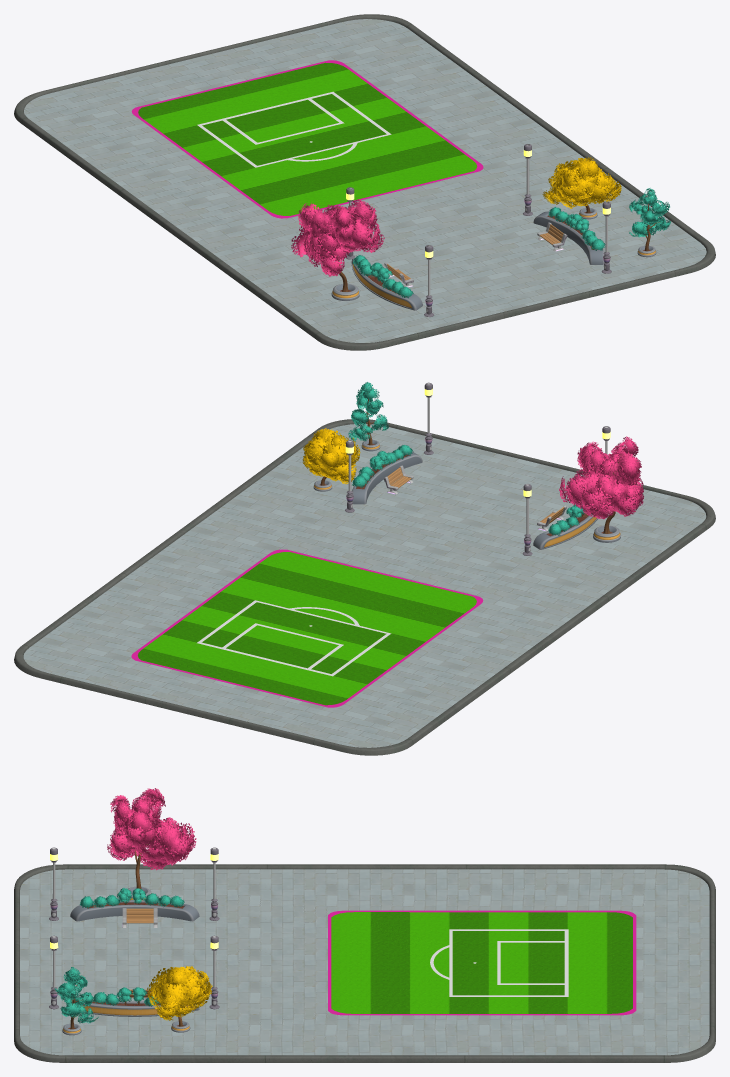
Rendered from plaza.glb.
The picture shows the model from 3 angles, top to bottom: view 1: azimuth 30°, elevation 25°; view 2: azimuth 150°, elevation 25°; view 3: azimuth 270°, elevation 25°; orthographic projection.
Visible parts, largest first — view 1: suelo, Tree.001, TreeYellow.001, PotMiddleLargeCurved.001, BushSmall.006, TreeGreen.001, Lamp_LOD0.002, BenchStreet.001; view 2: suelo, Tree.001, TreeYellow.001, PotMiddleLargeCurved.001, TreeGreen.001, BushSmall.006, Lamp_LOD0.002, BenchStreet.001; view 3: suelo, Tree.001, TreeYellow.001, PotMiddleLargeCurved.001, BushSmall.006, Lamp_LOD0.002, TreeGreen.001, BenchStreet.001.
Part boxes in pixels (left/top/right/bottom): suelo: left=14, top=14, right=715, bottom=350; Tree.001: left=291, top=199, right=384, bottom=291; TreeYellow.001: left=542, top=157, right=621, bottom=213; PotMiddleLargeCurved.001: left=351, top=211, right=604, bottom=310; BushSmall.006: left=352, top=207, right=605, bottom=298; TreeGreen.001: left=629, top=188, right=670, bottom=251; Lamp_LOD0.002: left=345, top=144, right=611, bottom=316; BenchStreet.001: left=384, top=222, right=567, bottom=287; suelo: left=14, top=419, right=715, bottom=755; Tree.001: left=559, top=436, right=643, bottom=533; TreeYellow.001: left=302, top=428, right=360, bottom=485; PotMiddleLargeCurved.001: left=352, top=451, right=598, bottom=549; TreeGreen.001: left=348, top=382, right=388, bottom=445; BushSmall.006: left=352, top=445, right=585, bottom=535; Lamp_LOD0.002: left=345, top=382, right=610, bottom=555; BenchStreet.001: left=384, top=465, right=566, bottom=531; suelo: left=14, top=864, right=715, bottom=1062; Tree.001: left=107, top=788, right=196, bottom=889; TreeYellow.001: left=147, top=966, right=212, bottom=1026; PotMiddleLargeCurved.001: left=70, top=900, right=199, bottom=1016; BushSmall.006: left=79, top=888, right=184, bottom=1006; Lamp_LOD0.002: left=49, top=847, right=219, bottom=1009; TreeGreen.001: left=54, top=967, right=98, bottom=1029; BenchStreet.001: left=122, top=908, right=157, bottom=997.
Size of what is drawn, in the model's own units: 31.09 by 7.78 by 47.45.
Materials: 16 (15 with a texture image).
